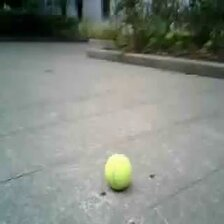tennis: (106, 155, 133, 188)
